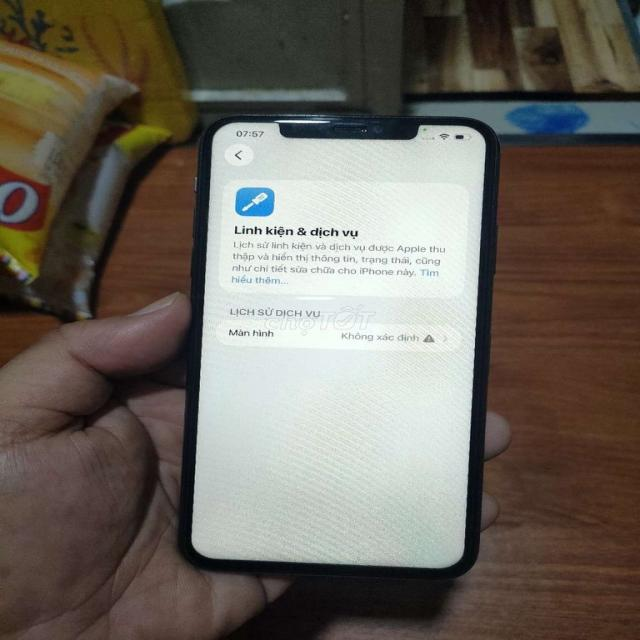gen_11: (179, 116, 498, 577)
